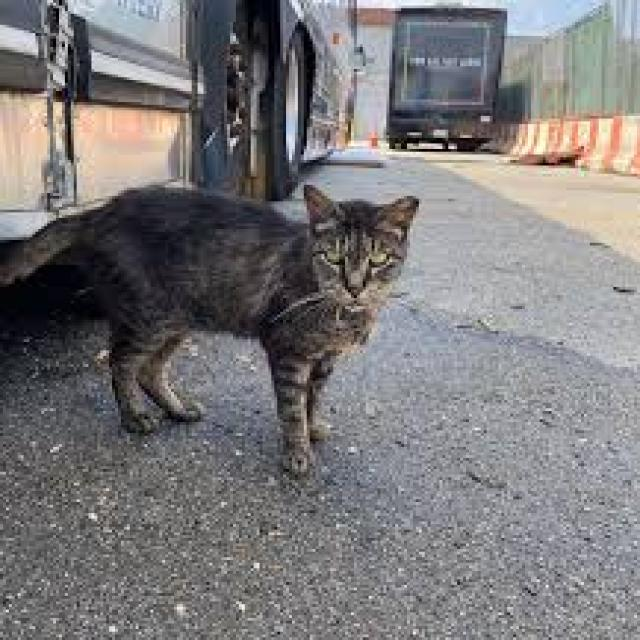cat: (3, 186, 415, 477)
